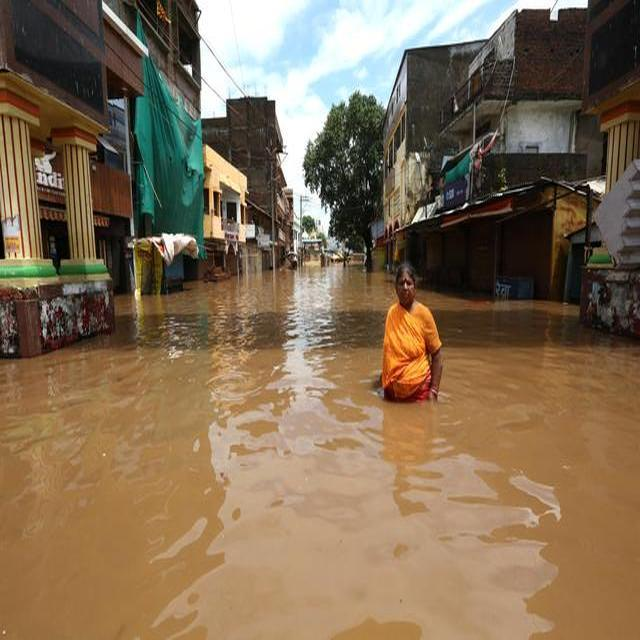Person-RiskLevel3: (366, 255, 457, 417)
